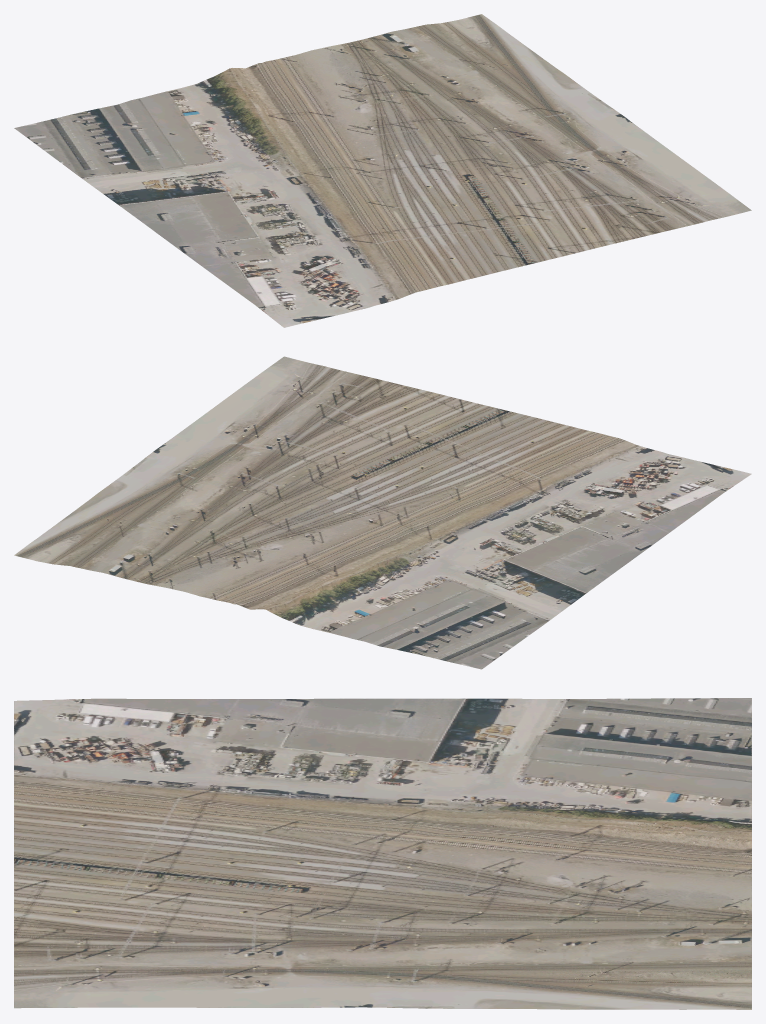
The model's file is CM_Terrain_24487797_6819384.fbx.
The picture shows the model from 3 angles, top to bottom: view 1: azimuth 30°, elevation 25°; view 2: azimuth 150°, elevation 25°; view 3: azimuth 270°, elevation 25°; orthographic projection. The views are drawn at different scales.
Visible parts, largest first — view 1: CM_Terrain_24487797_6819384_LOD0; view 2: CM_Terrain_24487797_6819384_LOD0; view 3: CM_Terrain_24487797_6819384_LOD0.
Boxes of the visible parts, x1,y1,x2,y2 form: CM_Terrain_24487797_6819384_LOD0: (14, 14, 751, 327); CM_Terrain_24487797_6819384_LOD0: (14, 356, 751, 669); CM_Terrain_24487797_6819384_LOD0: (14, 698, 751, 1009).
Size of what is drawn, in the model's own units: 205 by 4.08 by 205.
